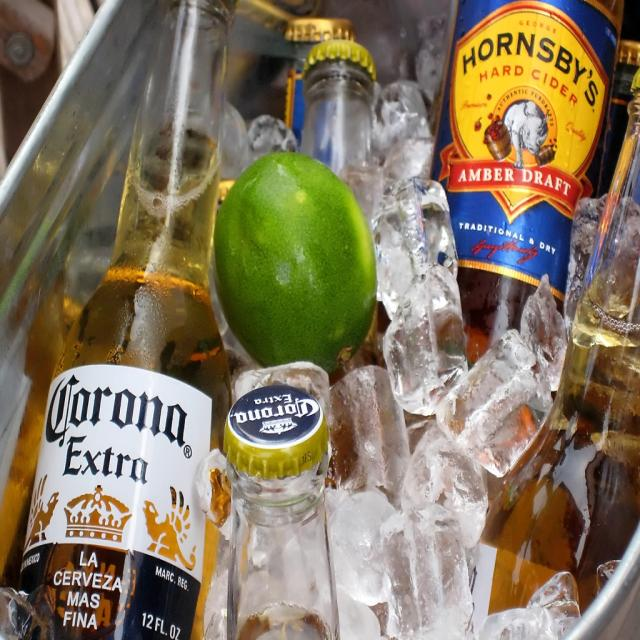corona: (20, 364, 213, 640)
